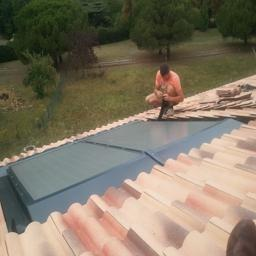no hat: (156, 60, 174, 78)
no vest: (150, 73, 182, 116)
